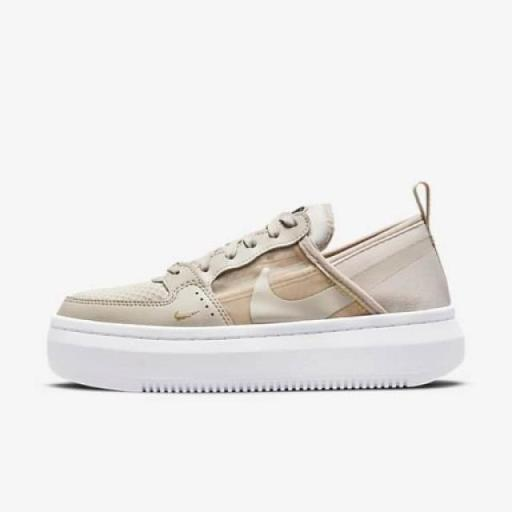Nike: (173, 308, 198, 321)
